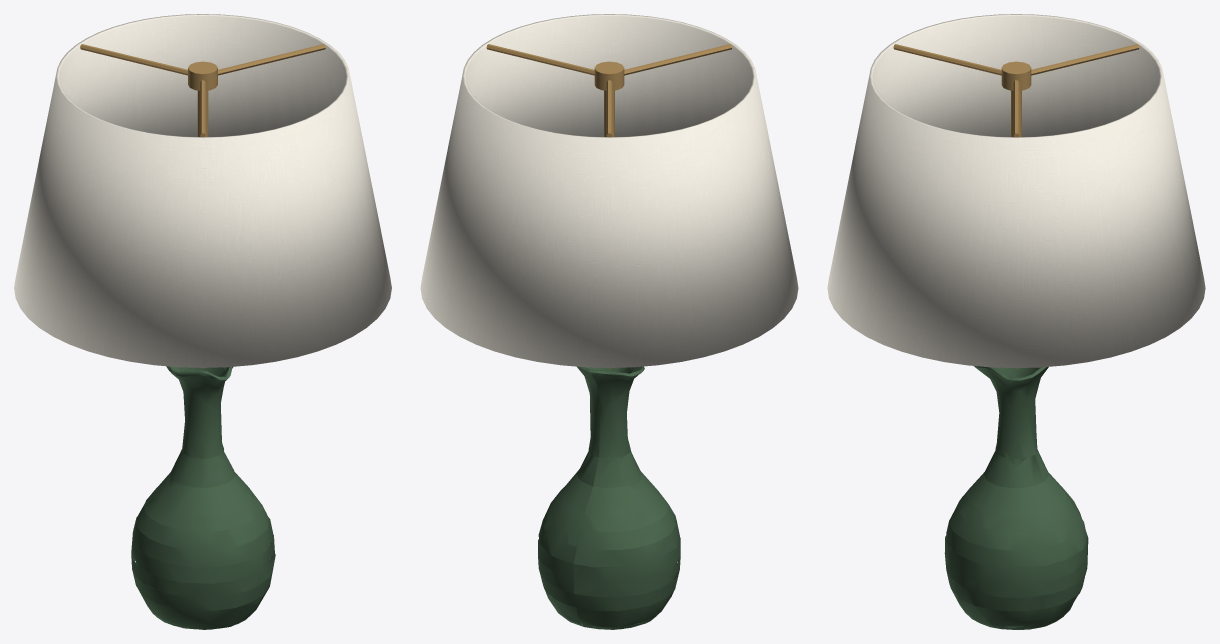
Rendered from table_lamp.glb.
The picture shows the model from 3 angles, left to right: view 1: azimuth 30°, elevation 25°; view 2: azimuth 150°, elevation 25°; view 3: azimuth 270°, elevation 25°; orthographic projection.
Visible parts, largest first — view 1: table_lamp; view 2: table_lamp; view 3: table_lamp.
Boxes of the visible parts, x1,y1,x2,y2 form: table_lamp: [14, 14, 391, 629]; table_lamp: [420, 14, 798, 629]; table_lamp: [827, 14, 1205, 629].
Size of the model in its own units: 0.4039 by 0.64 by 0.4039.
3 materials, 2 textured.
